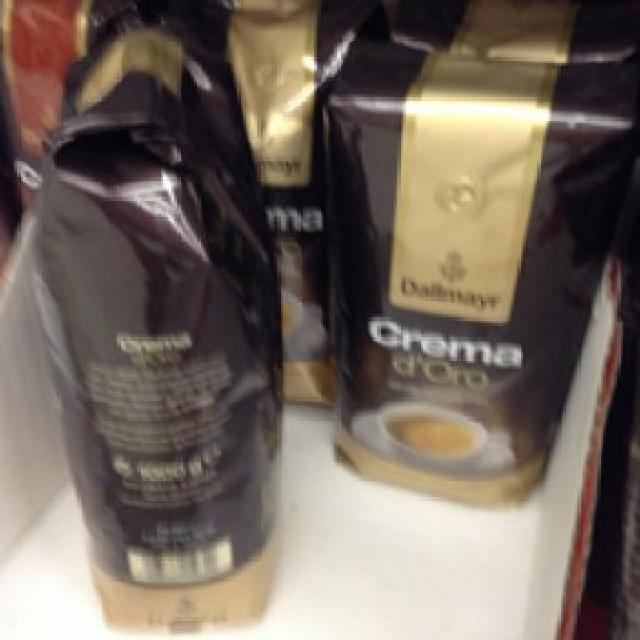Coffee: (23, 17, 280, 637), (320, 34, 634, 506)
